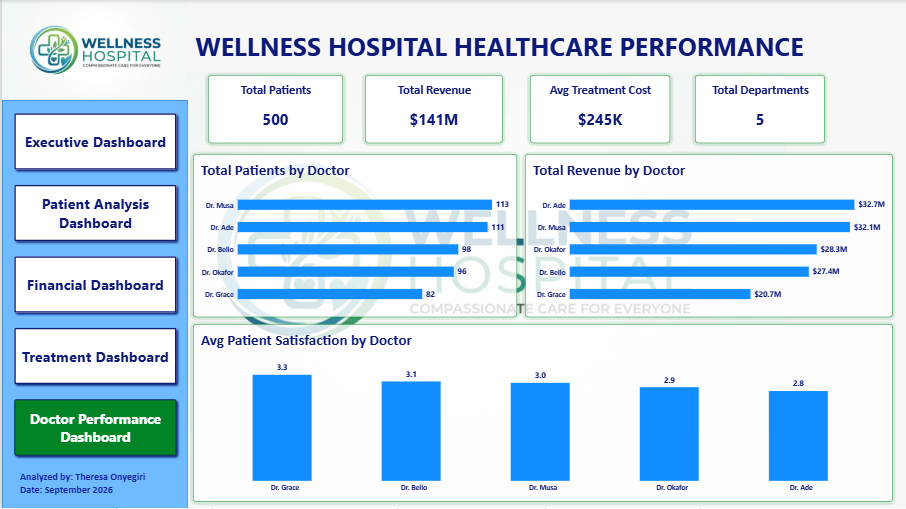

This screenshot's page, from the dashboard's own definition file:
{"tool":"powerbi","page":{"name":"Doctor Performance Dashboard","canvas":[1920,1080],"ordinal":4},"visuals":[{"type":"shape","box":[0,212.6,395.3,868.3],"z":0},{"type":"image","box":[0,0,395.3,211.7],"z":1000},{"type":"textbox","box":[350.8,23.4,1413.7,120.1],"z":2000},{"type":"pageNavigator","box":[17,231.7,363.5,750.5],"z":3000},{"type":"barChart","title":"Total Patients by Doctor","fields":{"Category":["Table1.Doctor_Name"],"Y":["Table1.Total Patients"]},"box":[406.1,327.4,688.8,346.5],"z":4000},{"type":"barChart","title":"Total Revenue by Doctor ","fields":{"Category":["Table1.Doctor_Name"],"Y":["Table1.Total Revenue"]},"box":[1111.9,327.4,782.4,346.5],"z":5000},{"type":"columnChart","title":"Avg Patient Satisfaction by Doctor","fields":{"Y":["Table1.Avg Patient Satisfaction"],"Category":["Table1.Doctor_Name"]},"box":[406.1,688.8,1488.2,378.4],"z":6000},{"type":"card","title":"Total Patients","fields":{"Values":["Table1.Total Patients"]},"box":[438,159.4,287,144.6],"z":7000},{"type":"card","title":"Total Revenue","fields":{"Values":["Table1.Total Revenue"]},"box":[771.7,159.4,293.4,144.6],"z":8000},{"type":"card","title":"Avg Treatment Cost","fields":{"Values":["Table1.Avg Treatment Cost"]},"box":[1122.5,159.4,297.6,144.6],"z":9000},{"type":"card","title":"Total Departments","fields":{"Values":["Table1.Total Departments"]},"box":[1473.3,159.4,276.4,144.6],"z":10000},{"type":"textbox","box":[38.3,1001.3,312.5,78.7],"z":11000}]}

Visuals, with their boxes in screenshot pixels (x1, y1, x2, y2), scaled from the page's 1920x1080 canvas onto the 906x509 screenshot:
shape: bbox(0, 100, 187, 508)
image: bbox(0, 0, 187, 100)
textbox: bbox(166, 11, 833, 68)
pageNavigator: bbox(8, 109, 180, 463)
"Total Patients by Doctor" barChart: bbox(192, 154, 517, 318)
"Total Revenue by Doctor " barChart: bbox(525, 154, 894, 318)
"Avg Patient Satisfaction by Doctor" columnChart: bbox(192, 325, 894, 503)
"Total Patients" card: bbox(207, 75, 342, 143)
"Total Revenue" card: bbox(364, 75, 503, 143)
"Avg Treatment Cost" card: bbox(530, 75, 670, 143)
"Total Departments" card: bbox(695, 75, 826, 143)
textbox: bbox(18, 472, 166, 508)
